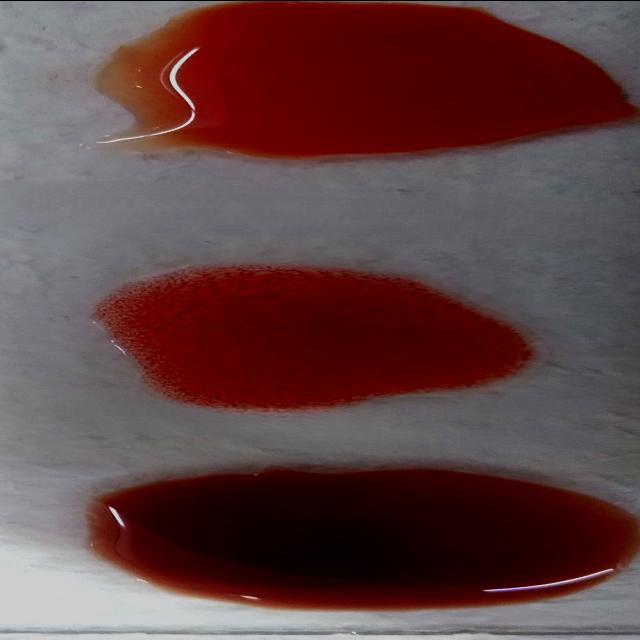D: (88, 274, 517, 406)
